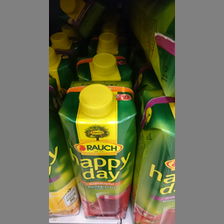juice: (58, 80, 137, 218)
